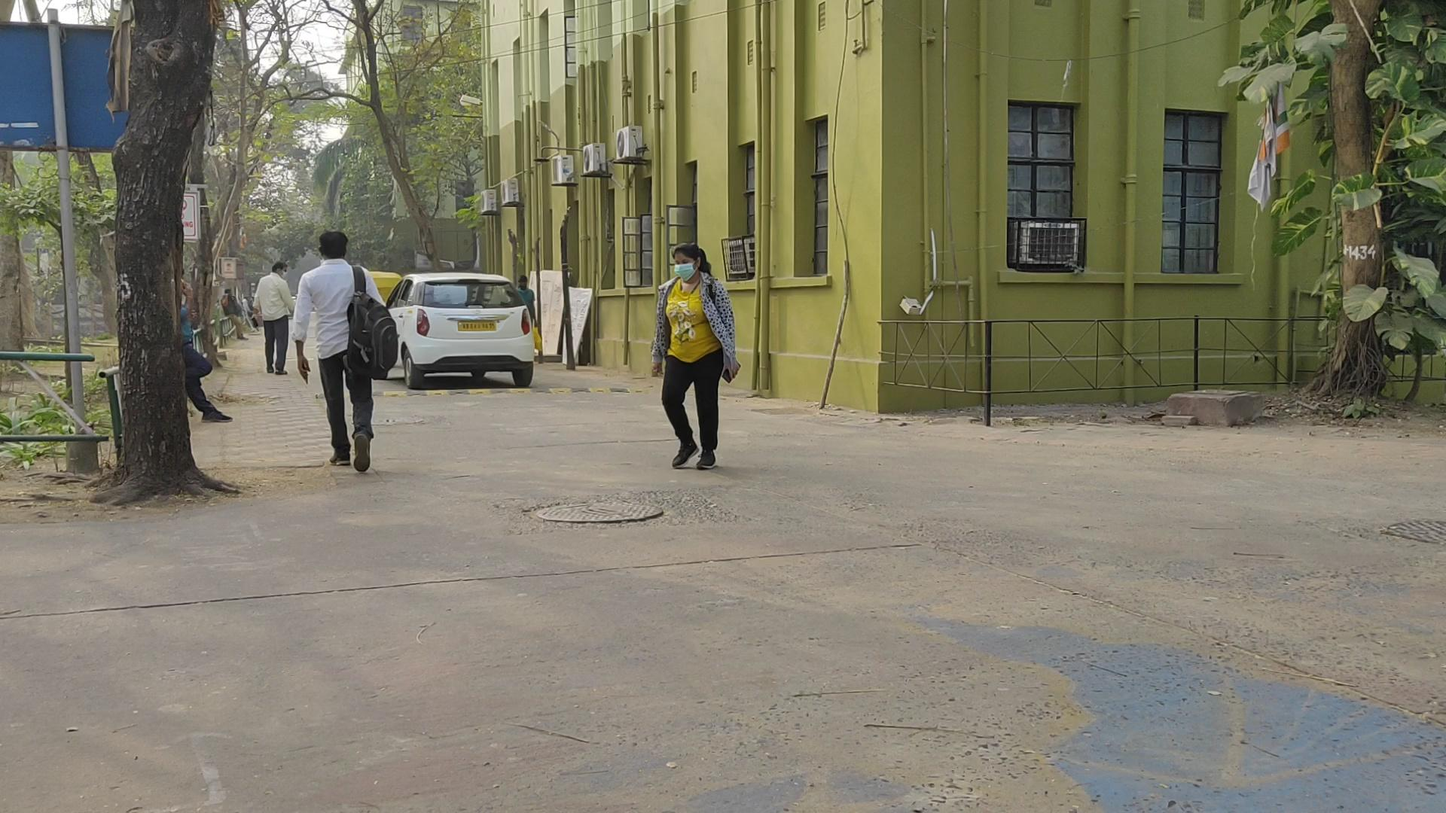car: (385, 273, 536, 388)
